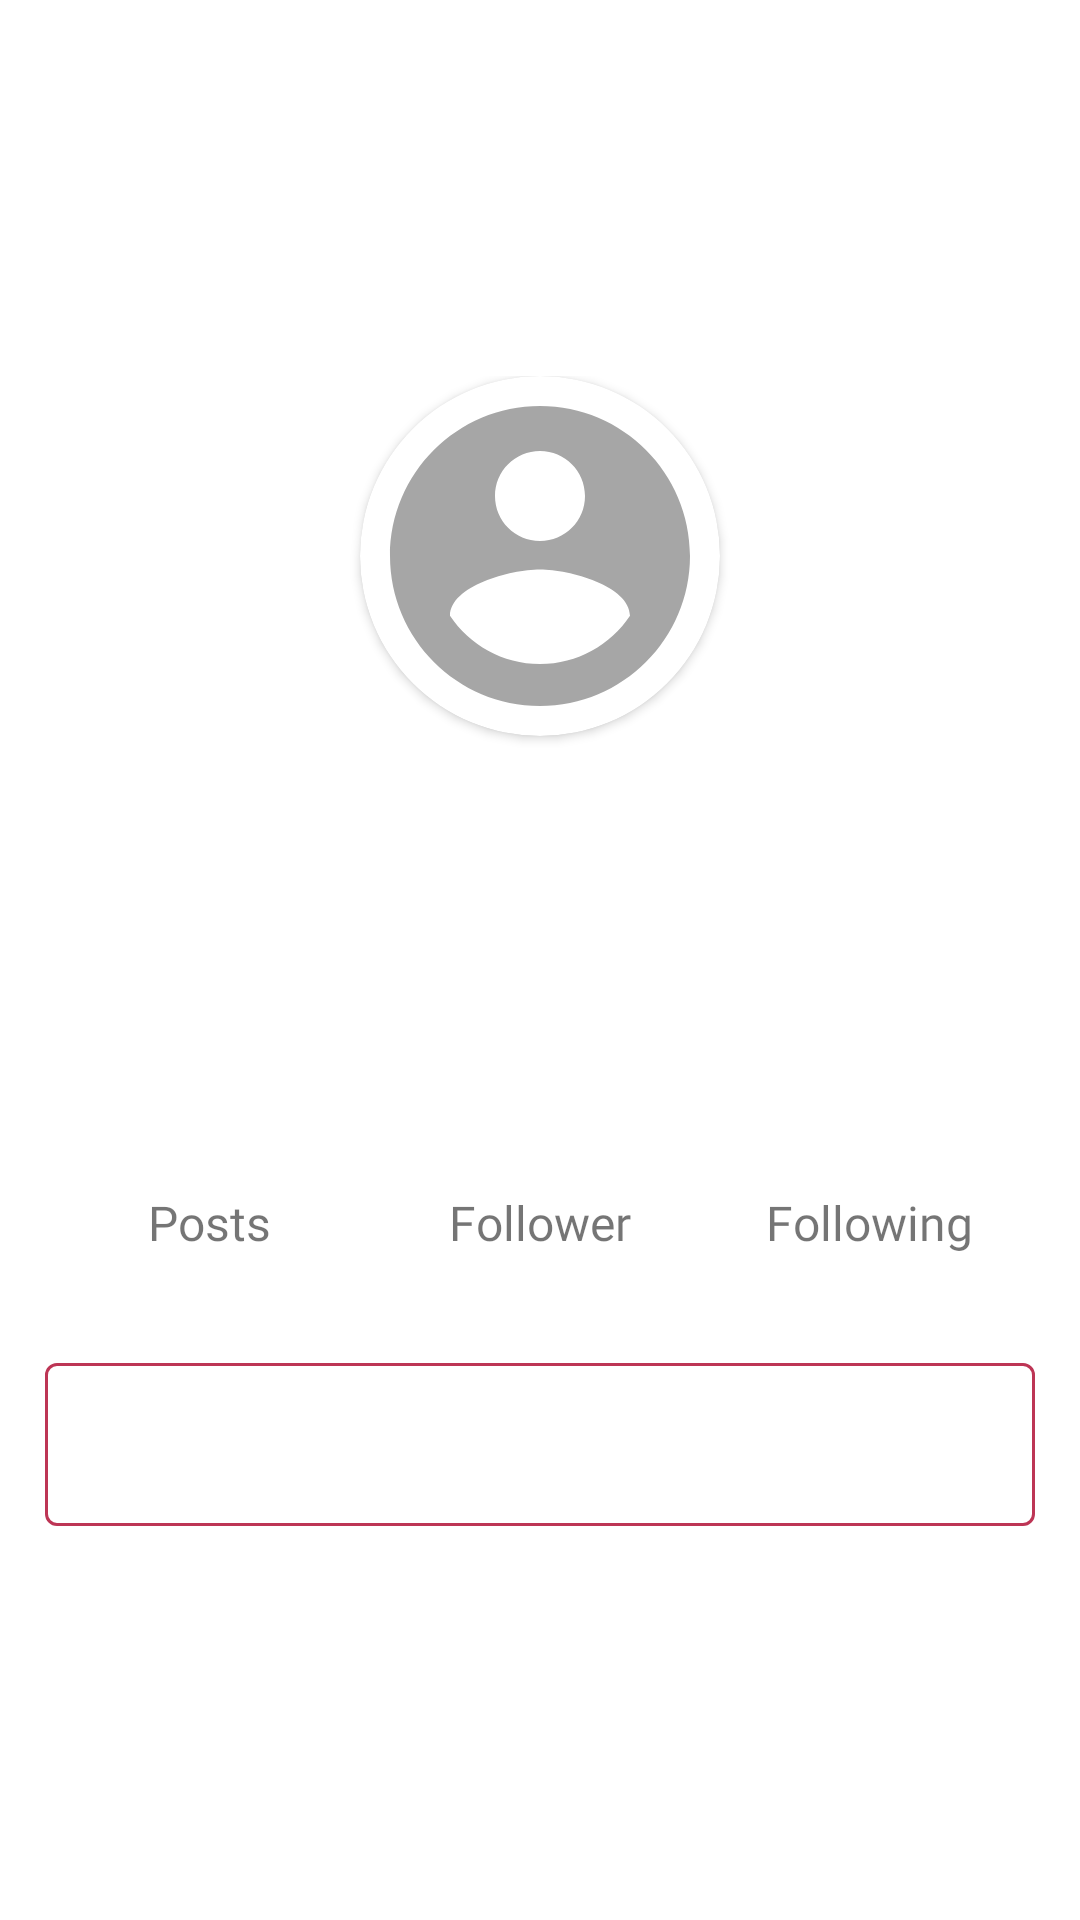

Icon click points for this 1080x1920 phone screenshot, format (x,y):
account circle: (540,571)
